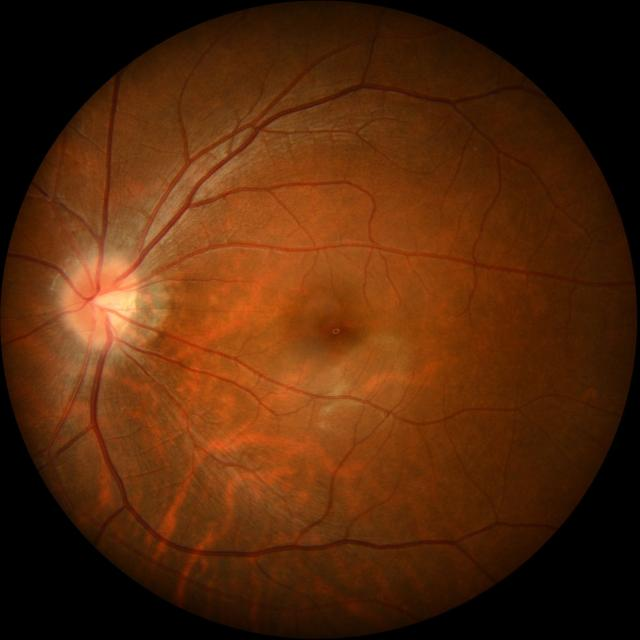OC: (92, 290, 126, 325)
OD: (64, 255, 140, 346)
